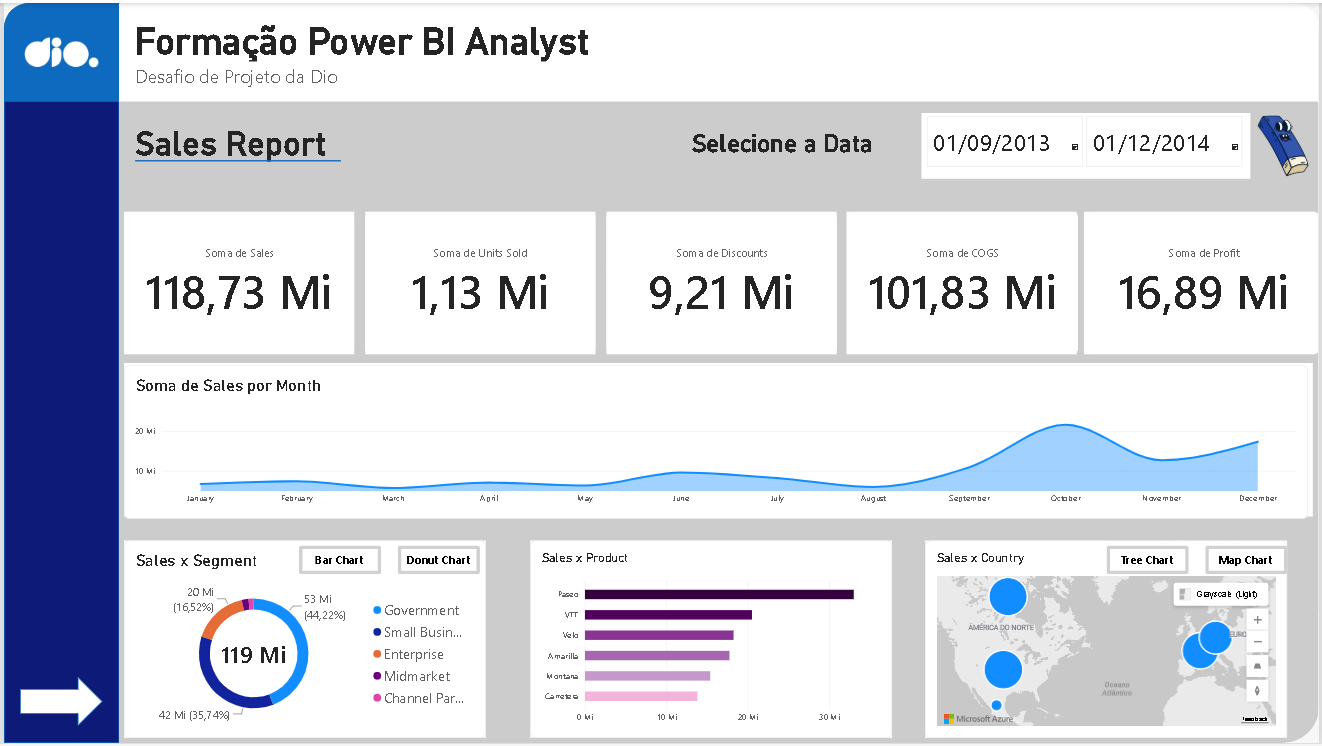

What the dashboard file says about the page in this screenshot:
{"tool":"powerbi","page":{"name":"Página 1","canvas":[1920,1080],"ordinal":0},"visuals":[{"type":"shape","box":[0,0,1920,1080],"z":0,"group":"g1"},{"type":"group","id":"g1","title":"Base_pag","box":[0,0,1920,1080],"z":0},{"type":"shape","box":[168,0,1752,144],"z":0,"group":"g2"},{"type":"textbox","title":"Sales Report","box":[192,176,312,72],"z":0,"group":"g3"},{"type":"textbox","title":"Selecione a Data","box":[1004,184,384,96],"z":0,"group":"g4"},{"type":"shape","box":[1577,304,336,208],"z":0,"group":"g5"},{"type":"shape","box":[176,525,1735,224],"z":0,"group":"g6"},{"type":"donutChart","title":"Sales x Segment","fields":{"Category":["Sheet1.Segment"],"Y":["Sum(Sheet1. Sales)"]},"box":[176,784,528,288],"z":0,"group":"g7"},{"type":"shape","box":[0,0,168,1080],"z":1000,"group":"g1"},{"type":"group","id":"g2","title":"Tit_Formação","box":[168,0,1752,336],"z":1000},{"type":"textbox","title":"Formação Power BI Analyst","box":[192,24,768,312],"z":1000,"group":"g2"},{"type":"shape","box":[192,80,300,300],"z":1000,"group":"g3"},{"type":"slicer","fields":{"Values":["Sheet1.Date"]},"box":[1340,160,480,96],"z":1000,"group":"g4"},{"type":"shape","box":[176,304,336,208],"z":1000,"group":"g5"},{"type":"areaChart","fields":{"Category":["Sheet1.Date.Variation.Date Hierarchy.Month"],"Y":["Sum(Sheet1. Sales)"]},"box":[176,528,1728,224],"z":1000,"group":"g6"},{"type":"treemap","title":"Sales x Country_treemap","fields":{"Group":["Sheet1.Country"],"Values":["Sum(Sheet1. Sales)"]},"box":[1344,784,528,288],"z":1000,"group":"g8"},{"type":"shape","box":[0,0,168,144],"z":2000,"group":"g1"},{"type":"group","id":"g3","title":"Sub_Sales Report","box":[192,80,304,288],"z":2000},{"type":"image","box":[1820,160,96,96],"z":2000,"group":"g4"},{"type":"shape","box":[1230,304,336,208],"z":2000,"group":"g5"},{"type":"actionButton","box":[432,792,120,42],"z":2000,"group":"g7"},{"type":"actionButton","box":[1608,792,120,42],"z":2000,"group":"g8"},{"type":"image","box":[0,0,168,144],"z":3000,"group":"g1"},{"type":"actionButton","box":[1824,160,96,96],"z":3000,"group":"g4"},{"type":"shape","box":[880,304,336,208],"z":3000,"group":"g5"},{"type":"actionButton","box":[576,792,120,42],"z":3000,"group":"g7"},{"type":"actionButton","box":[1752,792,120,42],"z":3000,"group":"g8"},{"type":"shape","box":[24,984,120,72],"z":3000},{"type":"group","id":"g4","title":"Data","box":[1004,160,916,120],"z":4000},{"type":"shape","box":[528,304,336,208],"z":4000,"group":"g5"},{"type":"cardVisual","fields":{"Data":["Sum(Sheet1. Sales)"]},"box":[176,304,336,208],"z":5000,"group":"g5"},{"type":"group","id":"g5","title":"Cartões","box":[176,304,1744,208],"z":5000},{"type":"cardVisual","fields":{"Data":["Sum(Sheet1.Units Sold)"]},"box":[528,304,336,208],"z":6000,"group":"g5"},{"type":"shape","box":[176,784,528,288],"z":6000},{"type":"cardVisual","fields":{"Data":["Sum(Sheet1.Discounts)"]},"box":[880,304,336,208],"z":7000,"group":"g5"},{"type":"shape","box":[768,784,528,288],"z":7000},{"type":"cardVisual","fields":{"Data":["Sum(Sheet1.COGS)"]},"box":[1232,304,336,208],"z":8000,"group":"g5"},{"type":"shape","box":[1344,784,528,288],"z":8000},{"type":"cardVisual","fields":{"Data":["Sum(Sheet1.Profit)"]},"box":[1584,304,336,208],"z":9000,"group":"g5"},{"type":"group","id":"g6","title":"Soma Sales_date month","box":[176,525,1735,227],"z":9000},{"type":"clusteredBarChart","title":"Sales x Product","fields":{"Category":["Sheet1.Product"],"Y":["Sum(Sheet1. Sales)"]},"box":[768,784,528,288],"z":10000},{"type":"group","id":"g7","title":"Sales x Segment","box":[176,784,528,288],"z":11000},{"type":"group","id":"g8","title":"Sales x Country","box":[1344,784,528,288],"z":12000}]}

Visuals, with their boxes in screenshot pixels (x1, y1, x2, y2), scaled from the page's 1920x1080 canvas onto the 1322x746 screenshot:
shape: box(0, 0, 1321, 745)
"Base_pag" group: box(0, 0, 1321, 745)
shape: box(116, 0, 1321, 99)
"Sales Report" textbox: box(132, 122, 347, 171)
"Selecione a Data" textbox: box(691, 127, 956, 193)
shape: box(1086, 210, 1317, 354)
shape: box(121, 363, 1316, 517)
"Sales x Segment" donutChart: box(121, 542, 485, 740)
shape: box(0, 0, 116, 745)
"Tit_Formação" group: box(116, 0, 1321, 232)
"Formação Power BI Analyst" textbox: box(132, 17, 661, 232)
shape: box(132, 55, 339, 262)
slicer - Sheet1.Date: box(923, 111, 1253, 177)
shape: box(121, 210, 353, 354)
areaChart - Sheet1.Date.Variation.Date Hierarchy.Month x Sum(Sheet1. Sales): box(121, 365, 1311, 519)
"Sales x Country_treemap" treemap: box(925, 542, 1289, 740)
shape: box(0, 0, 116, 99)
"Sub_Sales Report" group: box(132, 55, 342, 254)
image: box(1253, 111, 1319, 177)
shape: box(847, 210, 1078, 354)
actionButton: box(297, 547, 380, 576)
actionButton: box(1107, 547, 1190, 576)
image: box(0, 0, 116, 99)
actionButton: box(1256, 111, 1321, 177)
shape: box(606, 210, 837, 354)
actionButton: box(397, 547, 479, 576)
actionButton: box(1206, 547, 1289, 576)
shape: box(17, 680, 99, 729)
"Data" group: box(691, 111, 1321, 193)
shape: box(364, 210, 595, 354)
cardVisual - Sum(Sheet1. Sales): box(121, 210, 353, 354)
"Cartões" group: box(121, 210, 1321, 354)
cardVisual - Sum(Sheet1.Units Sold): box(364, 210, 595, 354)
shape: box(121, 542, 485, 740)
cardVisual - Sum(Sheet1.Discounts): box(606, 210, 837, 354)
shape: box(529, 542, 892, 740)
cardVisual - Sum(Sheet1.COGS): box(848, 210, 1080, 354)
shape: box(925, 542, 1289, 740)
cardVisual - Sum(Sheet1.Profit): box(1091, 210, 1321, 354)
"Soma Sales_date month" group: box(121, 363, 1316, 519)
"Sales x Product" clusteredBarChart: box(529, 542, 892, 740)
"Sales x Segment" group: box(121, 542, 485, 740)
"Sales x Country" group: box(925, 542, 1289, 740)
